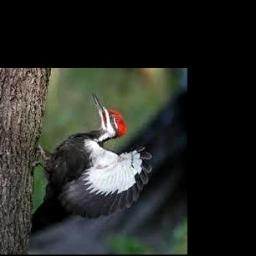Woodpecker: (33, 91, 152, 220)
